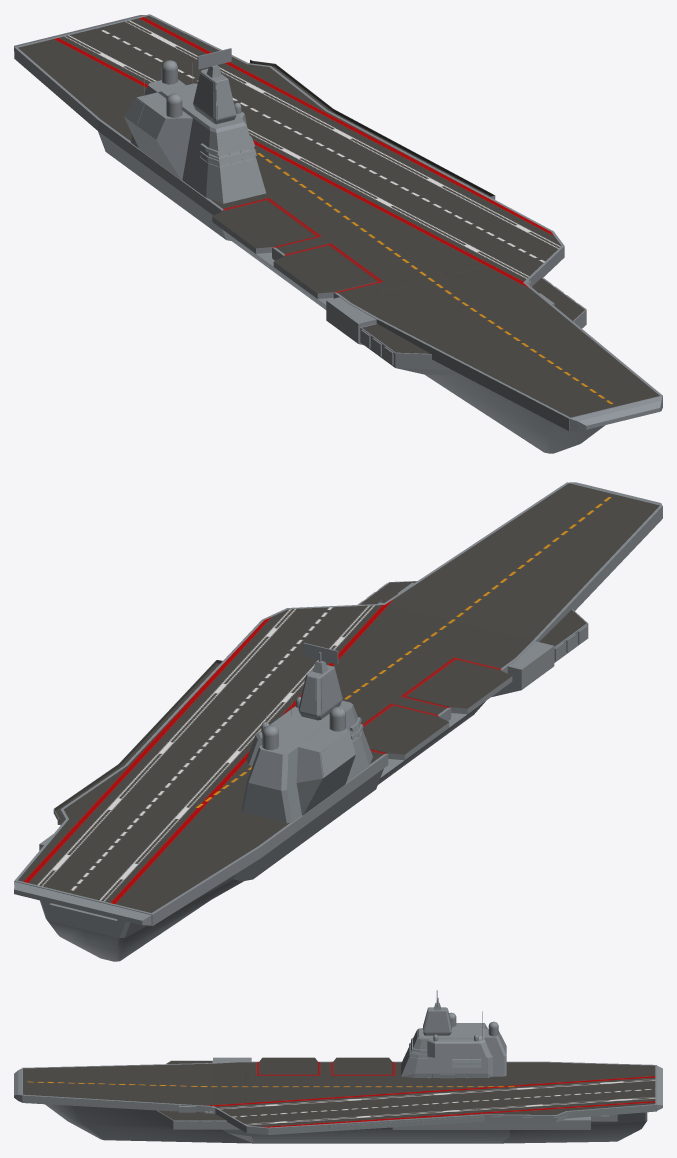
The model's file is aircraft_carrrier.glb.
3 views of the same model, one above another, from view 1: azimuth 30°, elevation 25°; view 2: azimuth 150°, elevation 25°; view 3: azimuth 270°, elevation 25° (orthographic). The views are drawn at different scales.
Parts seen in each view (by area): view 1: carrier_red_hull, carrier_red_island; view 2: carrier_red_hull, carrier_red_island; view 3: carrier_red_hull, carrier_red_island.
Part boxes in pixels (x1=…): carrier_red_hull: x1=14, y1=14, x2=662, y2=453; carrier_red_island: x1=124, y1=48, x2=265, y2=203; carrier_red_hull: x1=14, y1=482, x2=662, y2=961; carrier_red_island: x1=241, y1=642, x2=372, y2=823; carrier_red_hull: x1=14, y1=1057, x2=662, y2=1143; carrier_red_island: x1=401, y1=990, x2=506, y2=1078.
Size of the model in its own units: 89.53 by 73.36 by 342.
2 materials, 1 textured.
